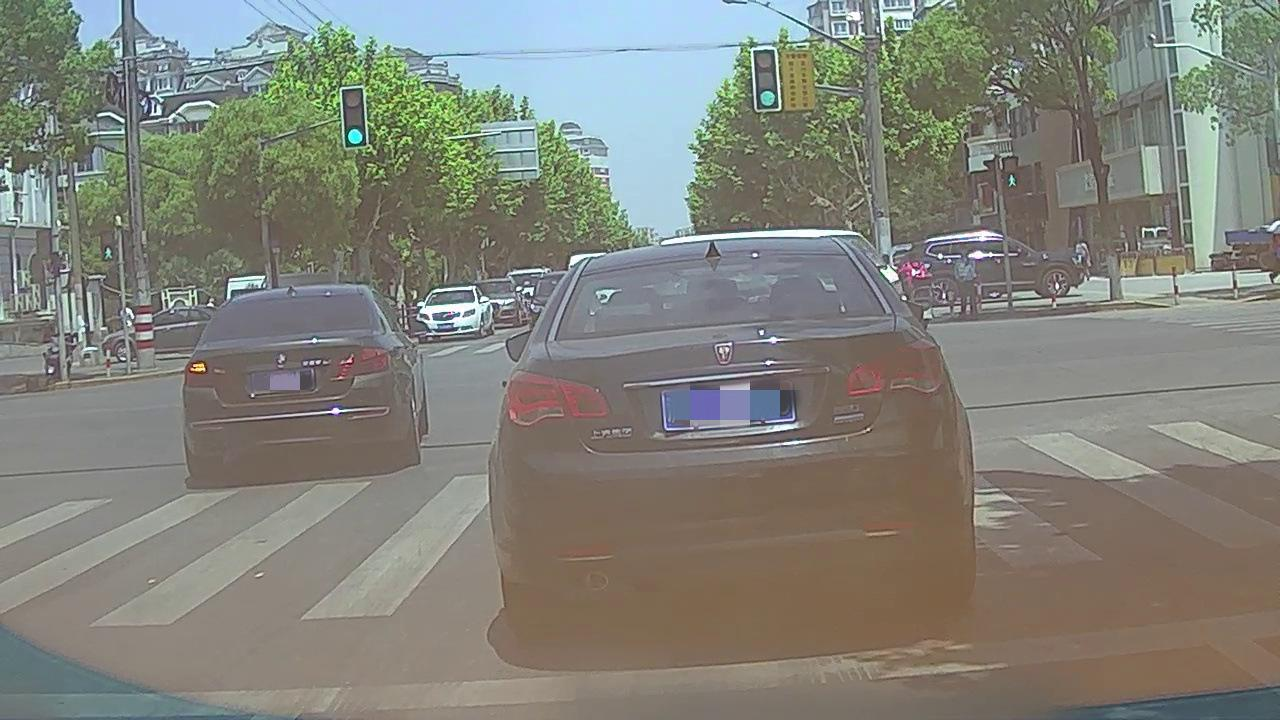traffic_light: (754, 51, 779, 108), (342, 89, 367, 145)
